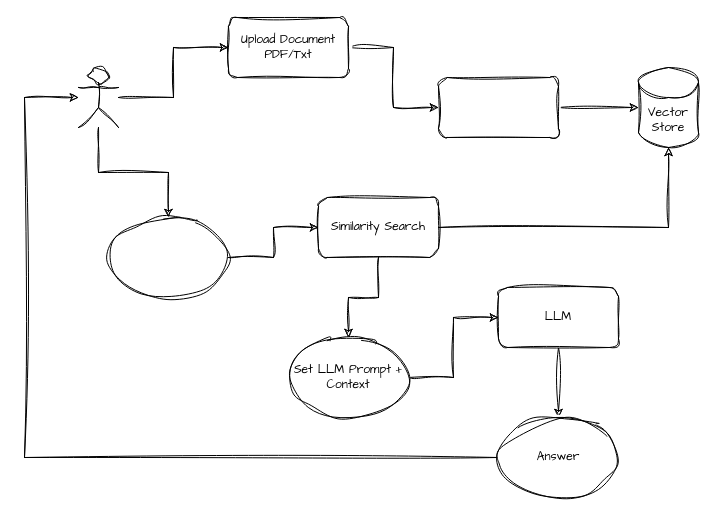
Image size: 716x515. Some labels were removed from this diagram. Each missing label, with the box of its shape:
Extract/Split/Load: (438, 76, 558, 138)
Promt = User Input: (108, 216, 228, 298)
USer: (78, 66, 118, 128)
